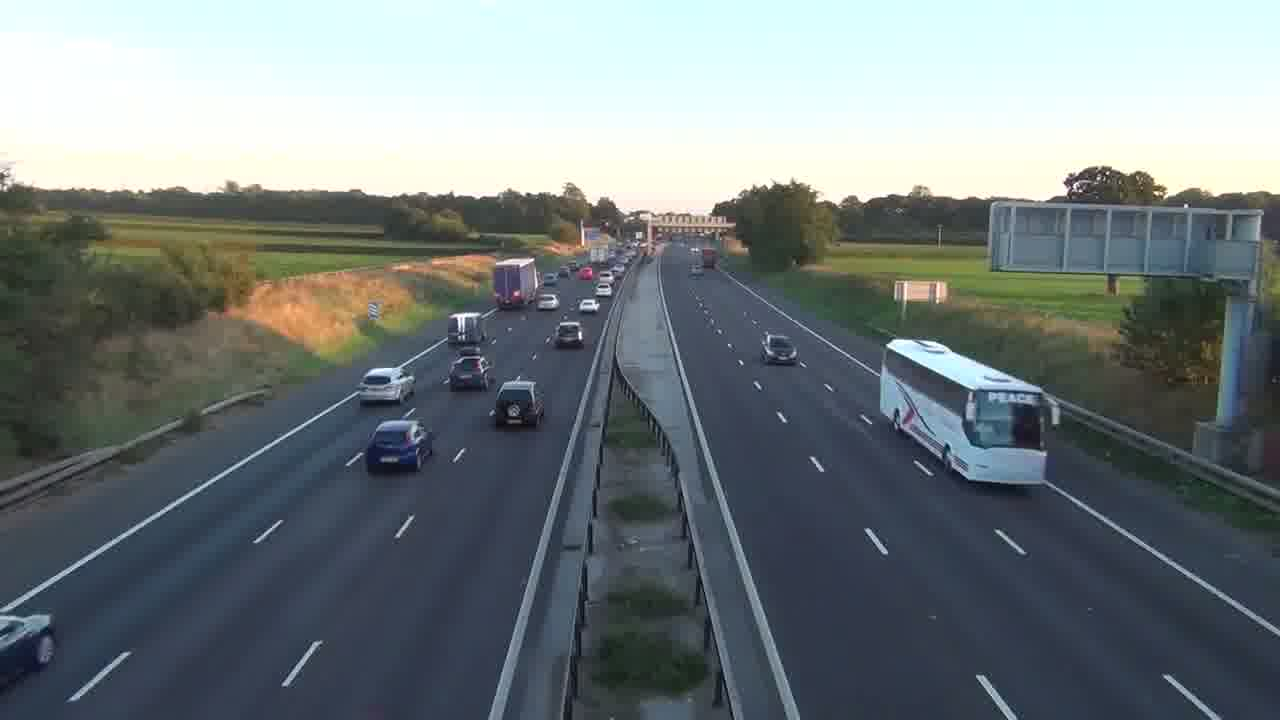bus: (879, 336, 1049, 485)
car: (0, 611, 56, 690), (365, 418, 435, 473), (366, 418, 435, 473), (492, 378, 546, 427), (358, 365, 415, 405), (447, 355, 489, 391), (759, 331, 799, 366), (553, 319, 584, 349), (536, 291, 560, 310), (576, 296, 600, 313)
truck: (493, 256, 540, 309)
